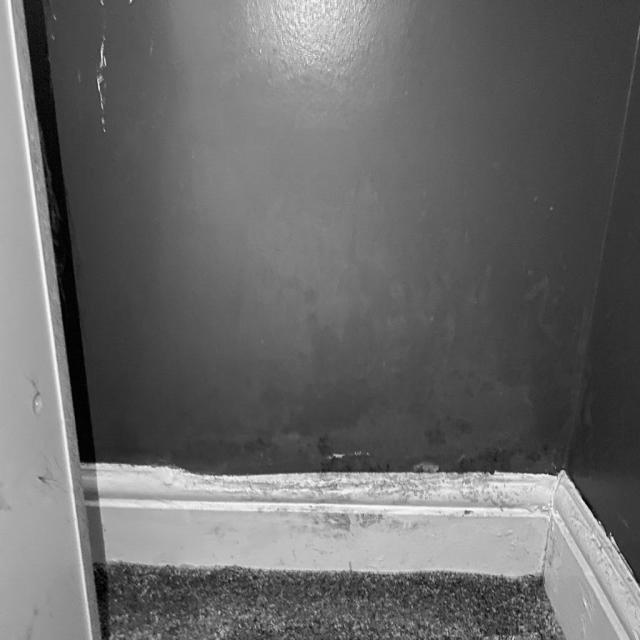stain marks: (198, 236, 581, 478)
